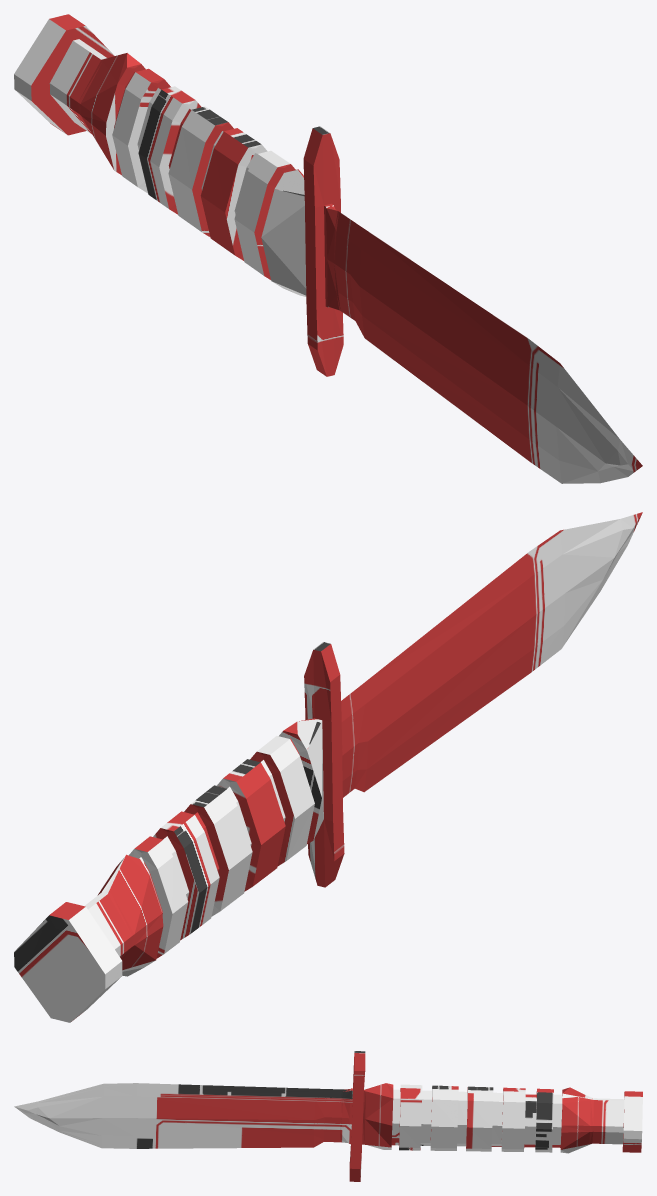
Rendered from Knife.obj.
3 renders of one model, top to bottom at view 1: azimuth 30°, elevation 25°; view 2: azimuth 150°, elevation 25°; view 3: azimuth 270°, elevation 25°, orthographic. The views are drawn at different scales.
Visible parts, largest first — view 1: Box001_default; view 2: Box001_default; view 3: Box001_default.
Part boxes in pixels (x1=…): Box001_default: x1=14, y1=14, x2=642, y2=483; Box001_default: x1=14, y1=512, x2=642, y2=1022; Box001_default: x1=14, y1=1051, x2=642, y2=1181.
Size of the model in its own units: 5.7 by 14.32 by 63.32.
